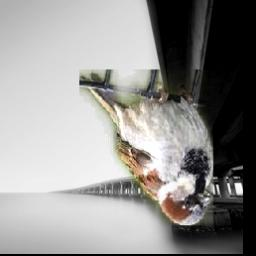Sparrow: (80, 70, 214, 226)
